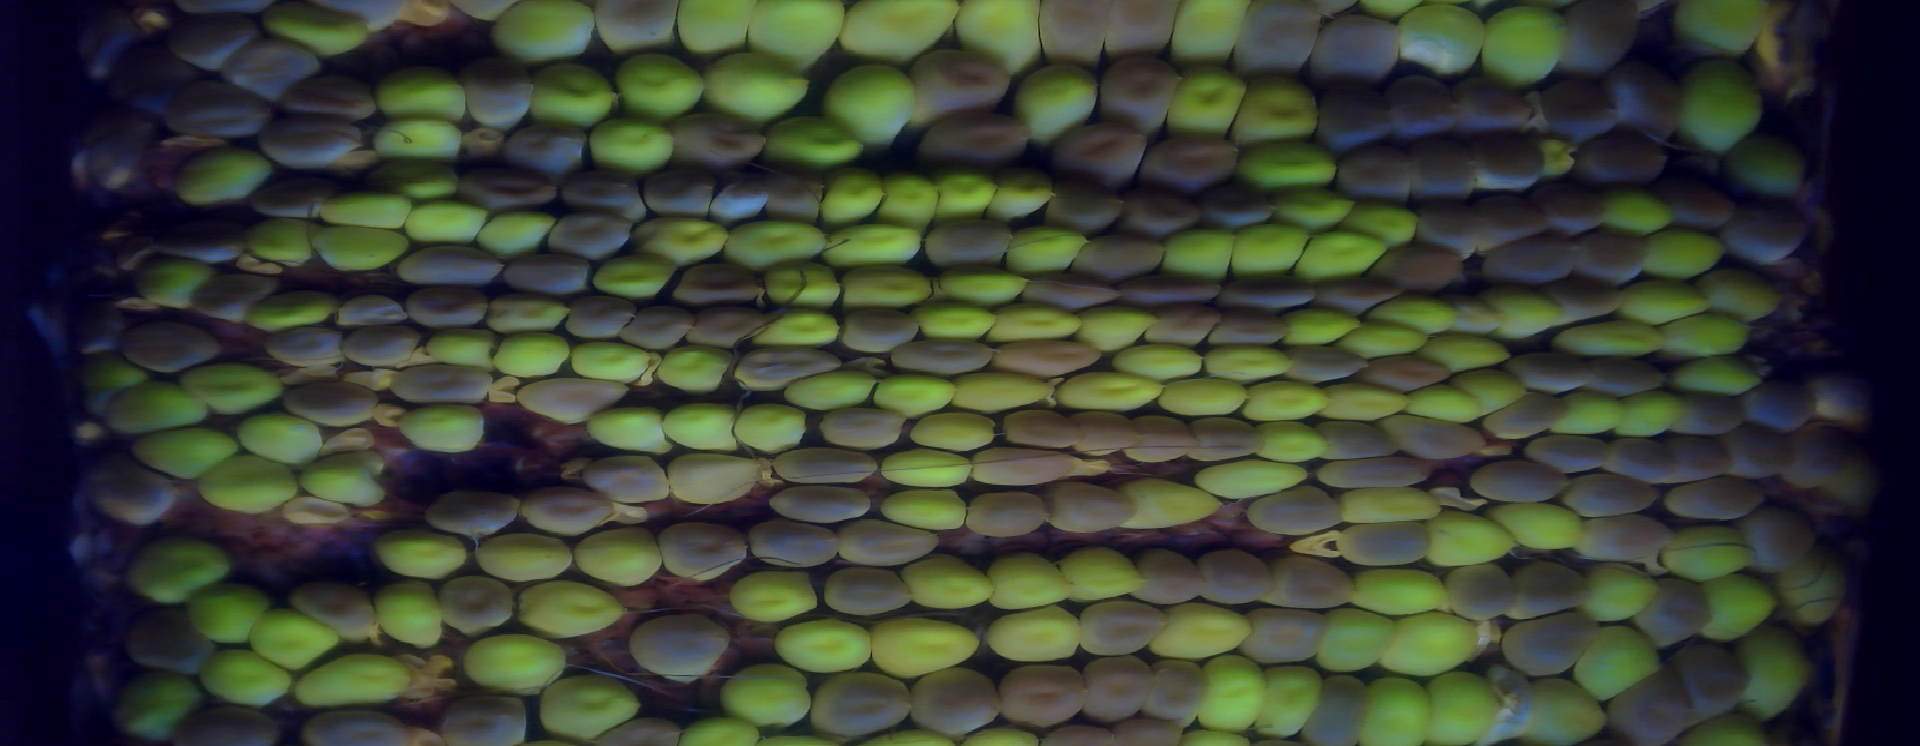fluorescent: (703, 47, 803, 124), (1681, 60, 1763, 154), (825, 61, 911, 146), (481, 1, 593, 65), (956, 2, 1047, 76), (841, 1, 958, 58), (1487, 2, 1562, 87), (1020, 61, 1098, 142), (540, 671, 637, 736), (1738, 627, 1809, 714), (1229, 73, 1318, 142), (872, 619, 978, 675), (615, 51, 704, 118), (519, 578, 623, 635), (1153, 601, 1249, 663), (722, 666, 813, 730), (459, 636, 563, 691), (1524, 676, 1607, 746), (1400, 7, 1483, 76), (1164, 64, 1242, 137), (133, 541, 228, 601), (744, 2, 845, 59), (1387, 614, 1476, 677), (1573, 627, 1657, 695), (296, 657, 408, 707), (250, 611, 340, 673), (201, 454, 296, 512), (133, 428, 235, 481), (1776, 548, 1843, 628), (377, 69, 470, 126), (179, 148, 273, 205), (574, 530, 669, 587), (989, 604, 1078, 664), (529, 62, 617, 122), (1318, 603, 1395, 671), (773, 621, 872, 674), (992, 552, 1078, 612), (1198, 657, 1265, 733), (1669, 2, 1758, 59), (1360, 676, 1431, 746), (1581, 560, 1662, 621), (1663, 526, 1755, 579), (1700, 575, 1773, 642), (301, 452, 386, 510), (1431, 668, 1498, 741), (1487, 503, 1584, 552), (1171, 1, 1243, 67), (1258, 664, 1321, 737), (769, 122, 866, 170), (397, 402, 484, 454), (202, 647, 289, 699), (1728, 136, 1802, 197), (108, 382, 206, 429), (909, 555, 993, 609), (182, 365, 283, 410), (262, 4, 362, 49), (729, 219, 823, 267), (1125, 480, 1220, 528), (1489, 279, 1560, 342), (1238, 145, 1341, 187), (1428, 512, 1513, 563), (1348, 568, 1445, 614), (825, 219, 923, 263), (380, 532, 468, 581), (1643, 227, 1722, 282), (380, 582, 443, 649), (673, 1, 749, 58), (1198, 457, 1307, 496), (587, 409, 673, 458), (1333, 481, 1439, 522), (473, 538, 574, 579), (238, 416, 323, 465), (1300, 229, 1384, 279), (190, 583, 261, 642), (842, 261, 932, 307), (954, 372, 1056, 413), (880, 448, 973, 492), (1245, 375, 1331, 423), (1613, 278, 1708, 321), (1658, 314, 1753, 356), (593, 118, 669, 171), (375, 115, 469, 158), (665, 401, 740, 454), (1232, 225, 1307, 279), (1698, 269, 1778, 320), (1160, 228, 1237, 279), (1063, 372, 1161, 413), (637, 219, 729, 262), (312, 225, 408, 266), (906, 412, 996, 454), (732, 573, 818, 617), (1558, 318, 1660, 355), (1322, 379, 1403, 425), (1160, 376, 1249, 418), (495, 331, 571, 380), (1068, 552, 1144, 601), (883, 489, 966, 533), (593, 256, 673, 301), (932, 269, 1031, 306), (312, 194, 408, 232), (1344, 198, 1420, 246), (1079, 307, 1158, 353), (476, 209, 553, 256), (1425, 330, 1509, 372), (785, 370, 873, 410), (735, 405, 807, 454), (1280, 303, 1356, 349), (1455, 369, 1528, 416), (1011, 225, 1089, 271), (404, 200, 487, 241), (140, 256, 207, 307), (1116, 343, 1201, 383), (872, 372, 953, 415), (249, 288, 336, 327), (823, 167, 885, 220), (246, 220, 318, 267), (1604, 189, 1673, 238), (1374, 295, 1460, 334), (918, 296, 992, 342), (372, 160, 454, 201), (754, 307, 839, 347), (1278, 189, 1356, 232), (571, 338, 649, 380), (485, 295, 571, 332), (1205, 347, 1291, 383), (1340, 318, 1428, 354), (1403, 382, 1480, 423), (1678, 356, 1760, 394), (880, 174, 938, 228), (422, 327, 495, 370), (1558, 392, 1627, 436), (768, 266, 840, 307), (660, 345, 726, 391), (993, 171, 1053, 219), (988, 309, 1078, 341), (1622, 392, 1682, 437), (1262, 420, 1322, 464), (77, 349, 144, 388), (936, 171, 993, 217), (1538, 137, 1581, 186)
nonfluorescent: (631, 612, 733, 687), (915, 111, 1027, 171), (808, 670, 913, 734), (917, 47, 1011, 118), (1308, 12, 1403, 81), (167, 82, 272, 143), (912, 663, 999, 736), (1003, 657, 1089, 729), (1238, 2, 1322, 73), (1728, 192, 1809, 266), (1056, 127, 1149, 190), (1502, 612, 1592, 676), (1102, 56, 1174, 135), (1611, 668, 1686, 742), (1149, 132, 1239, 192), (224, 36, 313, 96), (1329, 137, 1408, 205), (118, 44, 192, 115), (1404, 137, 1480, 207), (1483, 235, 1584, 287), (93, 456, 169, 524), (1603, 65, 1679, 134), (1322, 80, 1392, 152), (1678, 639, 1750, 709), (971, 439, 1069, 490), (400, 243, 503, 292), (1742, 503, 1816, 572), (820, 563, 913, 617), (1068, 229, 1164, 281), (133, 603, 203, 674), (1569, 6, 1643, 72), (464, 58, 531, 130), (1660, 169, 1733, 236), (562, 169, 647, 227), (266, 118, 362, 168), (838, 519, 939, 567), (673, 109, 768, 160), (747, 517, 839, 570), (1266, 557, 1356, 611), (501, 247, 594, 299), (1573, 132, 1667, 184), (501, 122, 589, 176), (1386, 412, 1483, 461), (1243, 488, 1344, 534), (124, 321, 216, 372), (440, 692, 527, 746), (1080, 599, 1167, 653), (522, 485, 612, 537), (175, 702, 280, 746), (1043, 479, 1131, 532), (91, 119, 160, 185), (1452, 75, 1531, 134), (289, 586, 373, 639), (1082, 654, 1151, 720), (1631, 578, 1708, 637), (1783, 416, 1848, 486), (1037, 1, 1111, 62), (1569, 468, 1660, 517), (167, 17, 253, 69), (1390, 70, 1453, 140), (1373, 243, 1463, 292), (278, 78, 378, 122), (924, 216, 1011, 266), (1540, 82, 1618, 138), (1580, 513, 1670, 561), (662, 524, 744, 577), (677, 303, 760, 354), (1469, 137, 1545, 194), (671, 453, 758, 502), (965, 488, 1052, 537), (459, 165, 561, 207), (771, 443, 878, 483), (545, 212, 632, 260), (1248, 608, 1322, 663), (288, 383, 378, 429), (585, 454, 669, 503), (1134, 551, 1206, 608), (1477, 194, 1549, 250), (1512, 565, 1589, 617), (768, 484, 868, 524), (1468, 462, 1569, 502), (1333, 521, 1428, 563), (733, 347, 836, 386), (440, 575, 509, 632), (1536, 176, 1603, 235), (1313, 673, 1367, 746), (386, 364, 490, 402), (1409, 202, 1479, 258), (1662, 479, 1764, 517), (675, 265, 765, 307), (1449, 563, 1518, 619), (1198, 550, 1272, 601), (518, 382, 626, 418), (191, 273, 273, 320), (643, 163, 713, 217), (1018, 273, 1127, 307), (156, 219, 242, 262), (1741, 376, 1813, 428), (1111, 1, 1178, 56), (893, 337, 993, 374), (400, 285, 489, 327), (1313, 274, 1396, 318), (1509, 347, 1589, 392), (842, 307, 917, 356), (1576, 230, 1647, 282), (263, 323, 345, 367), (993, 343, 1098, 377), (1128, 269, 1220, 309), (1667, 432, 1734, 485), (433, 495, 518, 537), (1194, 183, 1273, 227), (302, 708, 404, 742), (563, 296, 634, 345), (1287, 342, 1370, 383), (251, 171, 332, 214), (824, 405, 905, 448), (75, 17, 133, 76), (763, 164, 820, 224), (1189, 416, 1262, 463), (1671, 391, 1745, 437), (1318, 457, 1429, 488), (1605, 439, 1680, 484), (1127, 183, 1188, 236), (1222, 277, 1311, 314), (1007, 405, 1079, 451), (1589, 356, 1668, 398), (1485, 663, 1524, 746), (1727, 425, 1791, 475), (1368, 355, 1455, 392), (1213, 307, 1284, 352), (343, 325, 420, 365), (1487, 399, 1561, 441), (1523, 436, 1608, 473), (1069, 412, 1141, 454), (1048, 184, 1120, 227), (1142, 305, 1218, 345), (1813, 374, 1870, 428), (1128, 414, 1189, 462), (628, 303, 692, 348), (1318, 423, 1393, 459), (1553, 277, 1618, 320), (82, 306, 129, 359), (337, 298, 405, 328), (713, 185, 768, 222)
